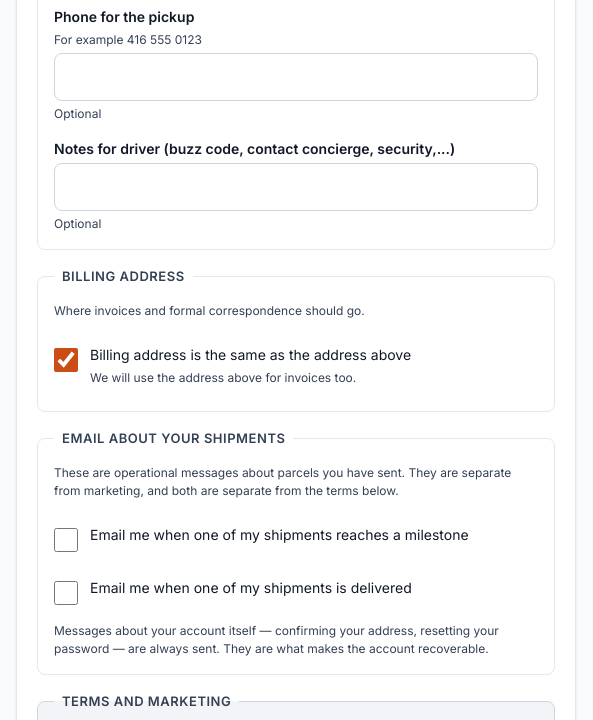
it: UAT round 11 › the country lists start on Canada › for the address, the phone and an unticked billing address
The image size is (593, 720).
(page scrolled)
Click the checkbox labelled "Billing address is the same as the address above".
click(66, 360)  # box [54,348,78,372]
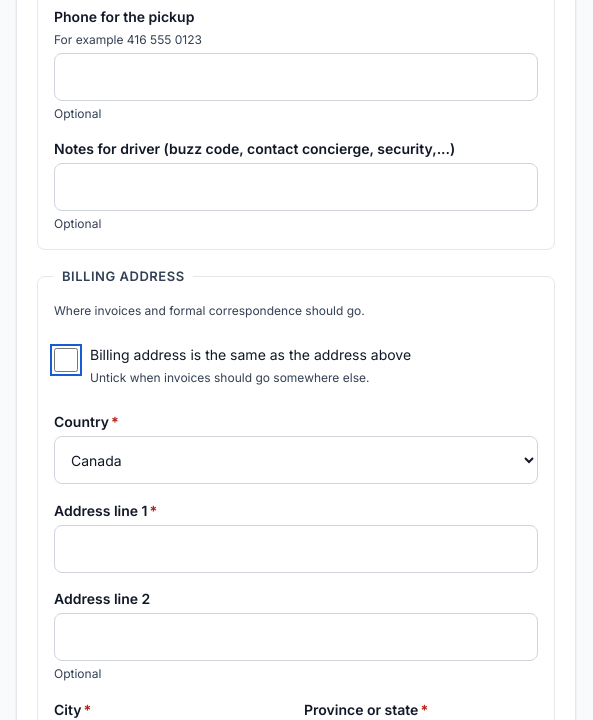
expect the dropdown labelled "Country" shows "Canada": met, box [54,436,538,484]
